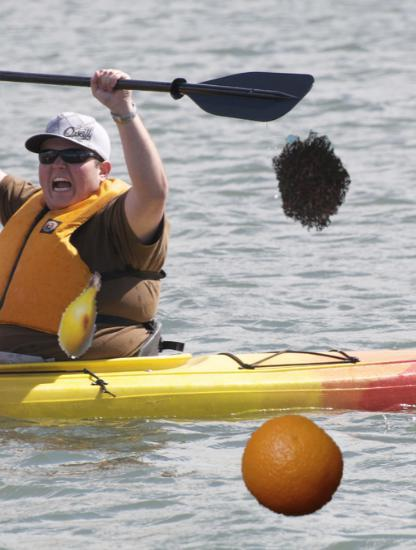Banana: (36, 269, 126, 359)
Orange: (239, 415, 344, 520)
Rambutan: (258, 130, 361, 233)
